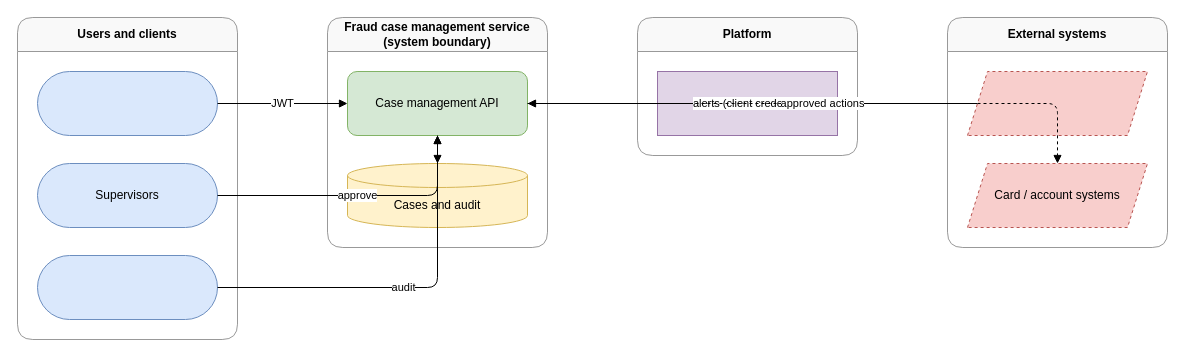
The diagram is 1185 pixels wide and 357 high, and some of its shapes have lost their labels. Here are the shapes that lost their labels. From the top down, the centre of each, then its label:
At point (127, 103): "Analysts".
At point (747, 103): "Keycloak roles · teams".
At point (1057, 103): "Fraud rules engine (Phase 1 Capstone 7)".
At point (127, 287): "Auditors".
